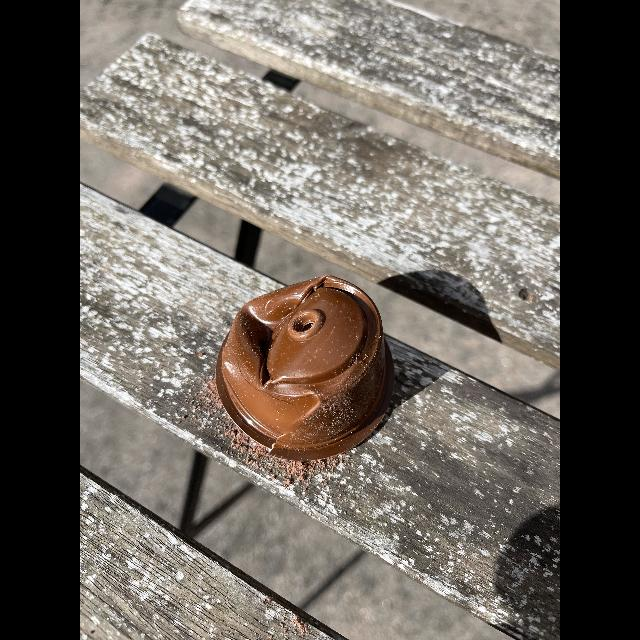damaged_capsule: (200, 270, 406, 470)
